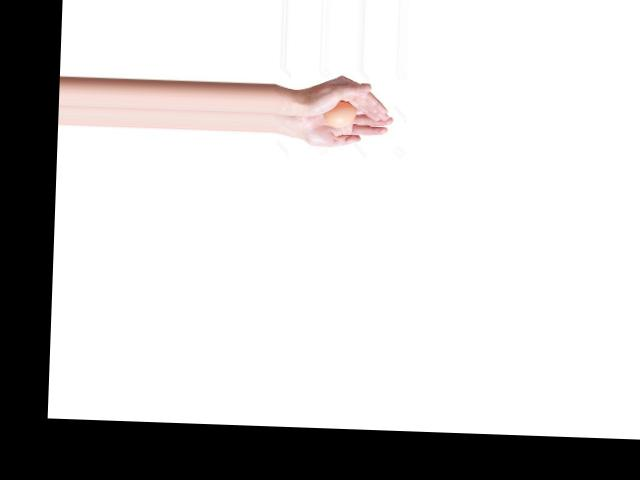egg: (325, 100, 356, 126)
